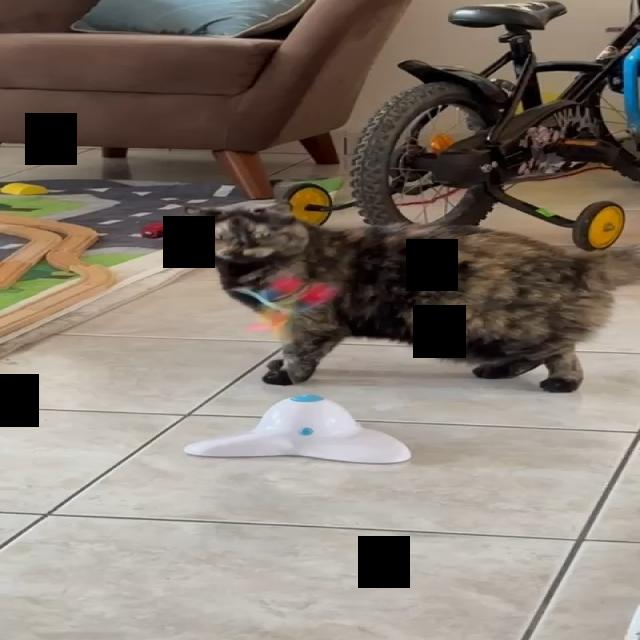authorized: (178, 199, 638, 393)
